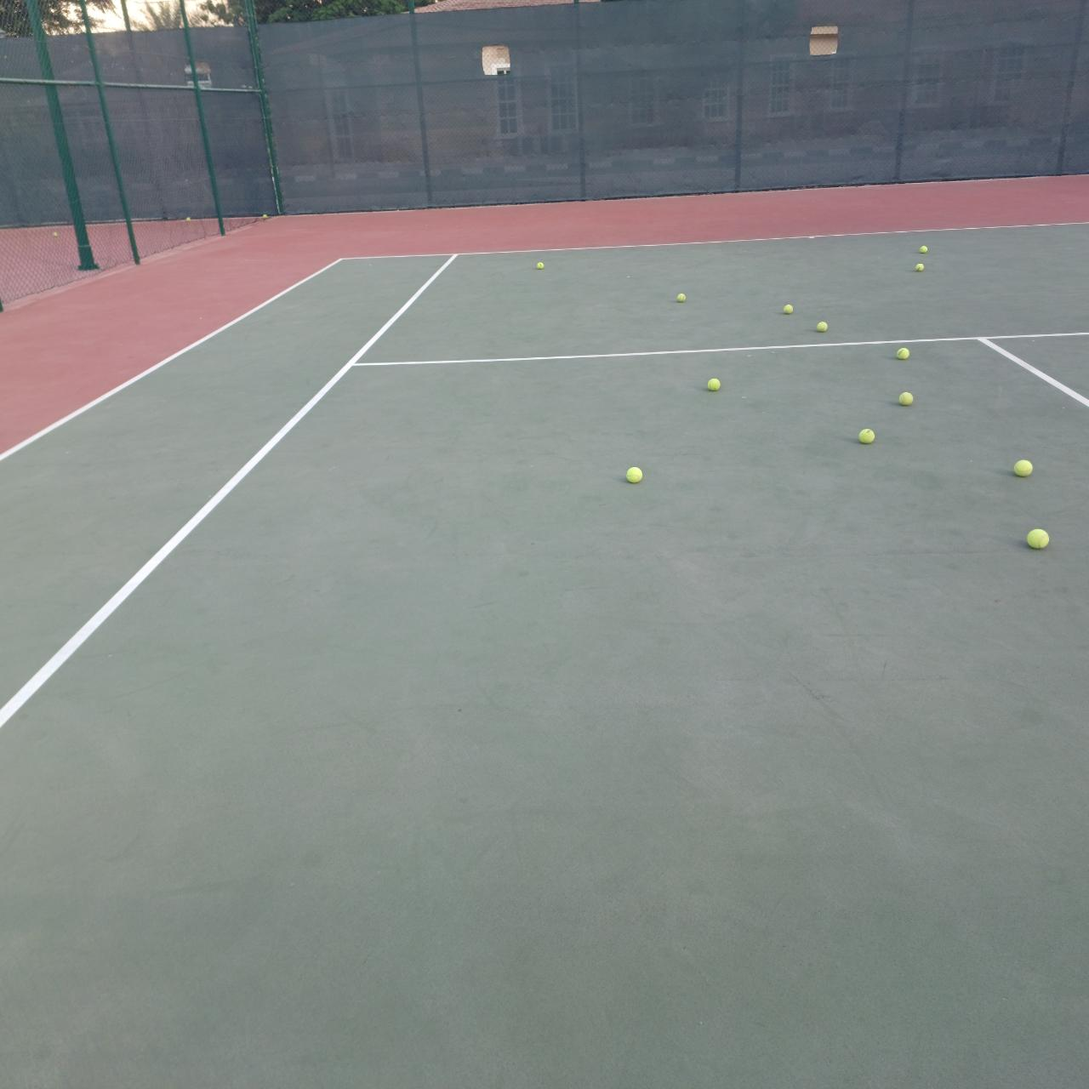tennis-ball: (1025, 526, 1049, 550), (1012, 457, 1033, 477), (624, 464, 642, 483), (858, 428, 875, 443), (898, 390, 913, 405), (706, 377, 720, 391), (896, 347, 910, 359), (815, 321, 828, 332), (783, 304, 793, 314), (676, 293, 686, 302), (919, 245, 928, 254), (915, 263, 924, 271), (537, 262, 544, 269)
